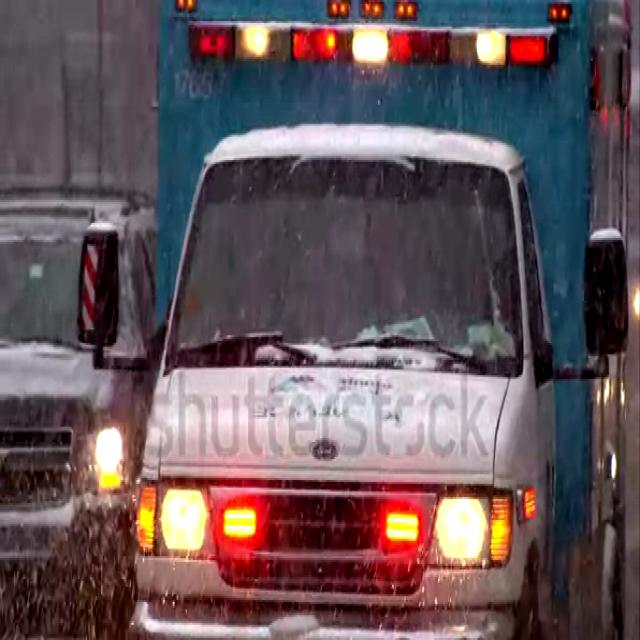ambulance: (74, 2, 628, 640)
